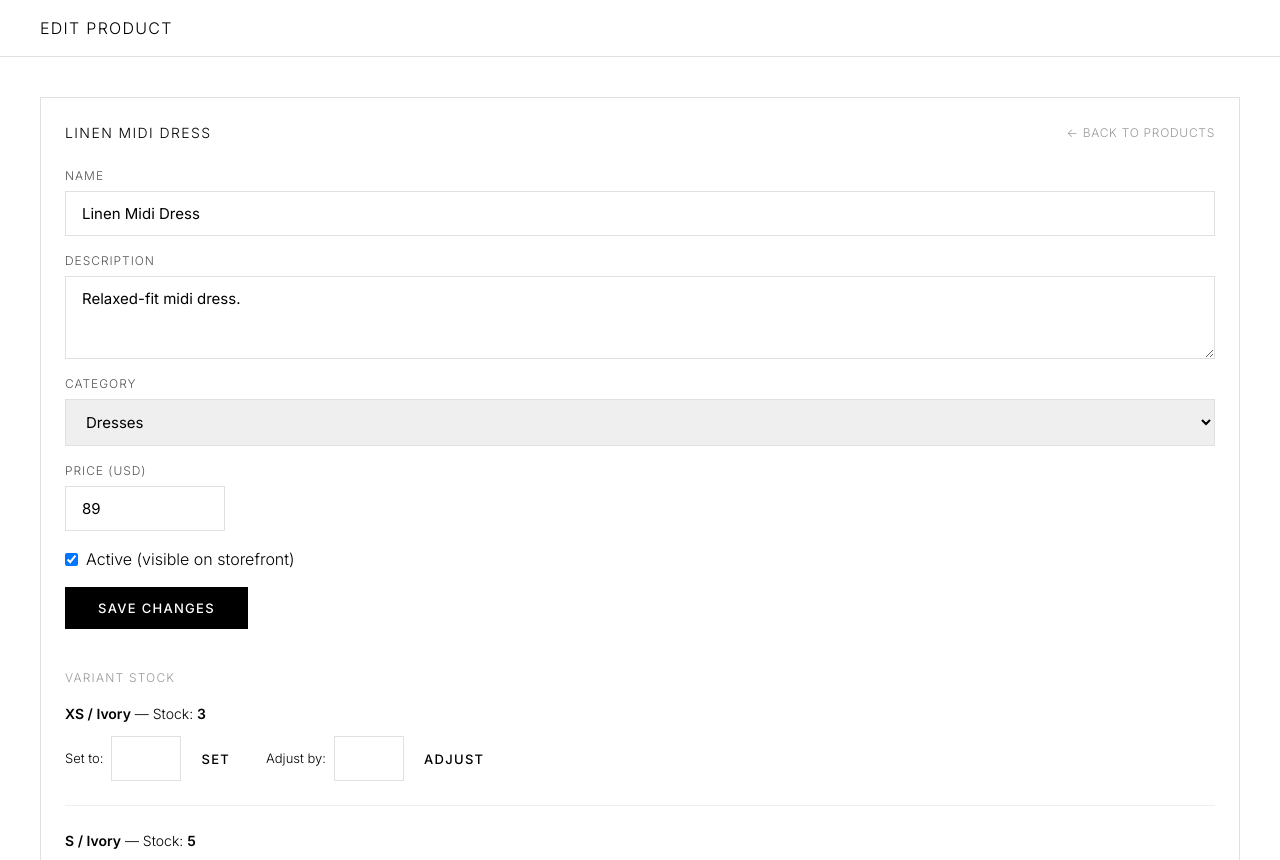
Test case: AdminProductForm › edit mode › shows name-required error when saving with empty name in edit mode
Clear the field labelled "Name": (640, 214) [65,191,1215,236]
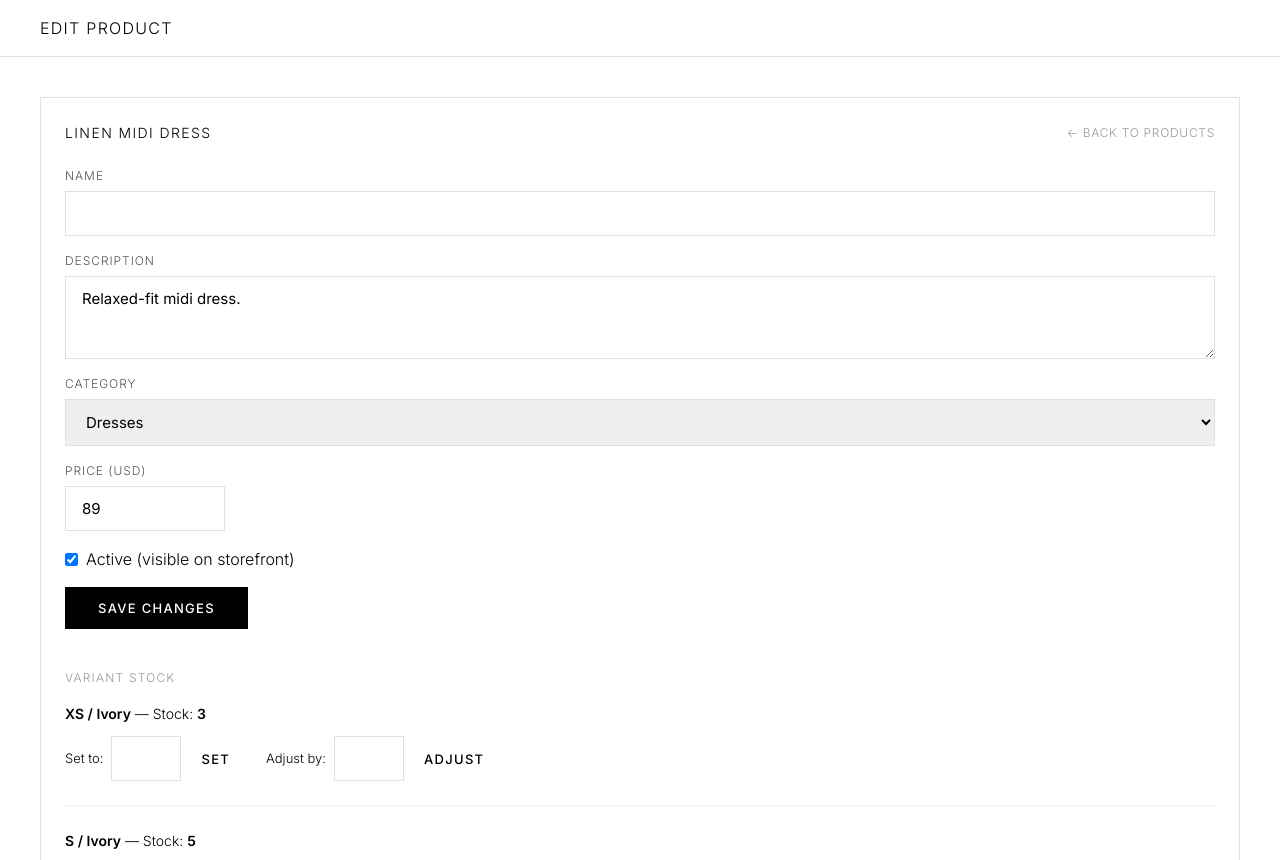
Click the button "Save Changes": (156, 608) [65,587,248,629]
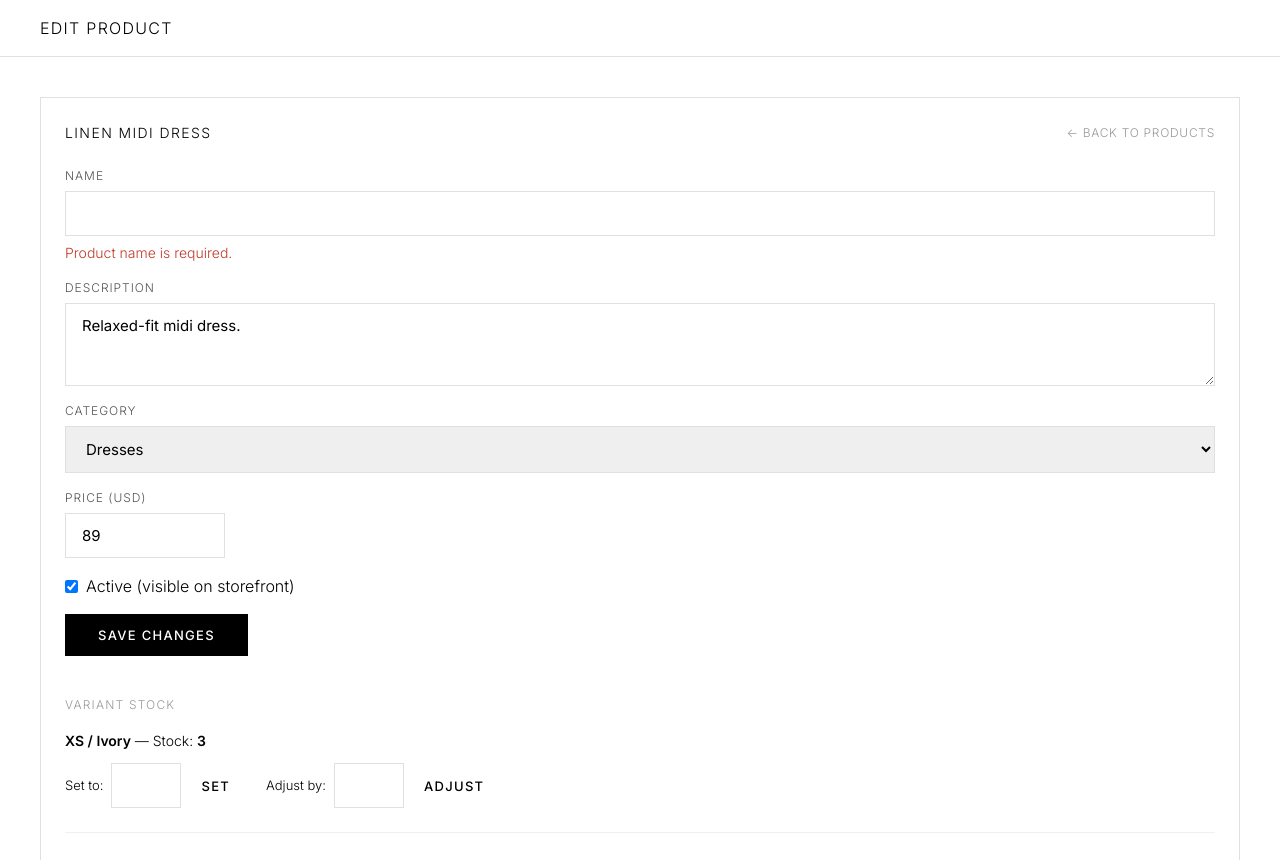
Check: the message reads "Product name is required.", box [65,244,232,261]
